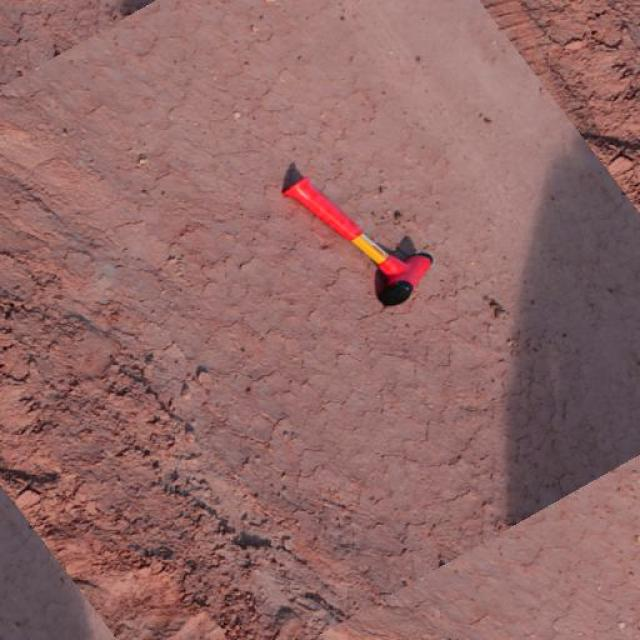mallet: (278, 160, 434, 308)
